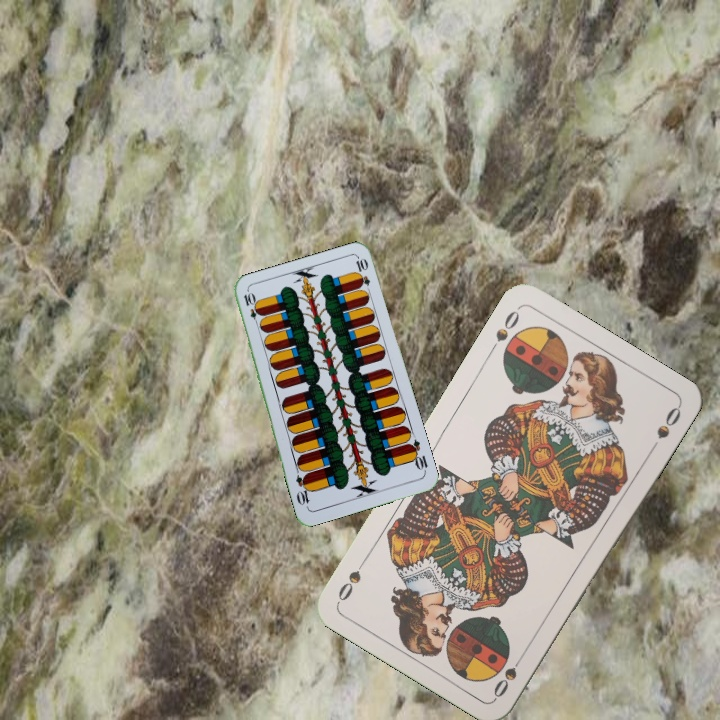E10: (404, 436, 430, 475), (240, 289, 263, 329)
SO: (489, 648, 527, 701), (485, 304, 523, 357)
